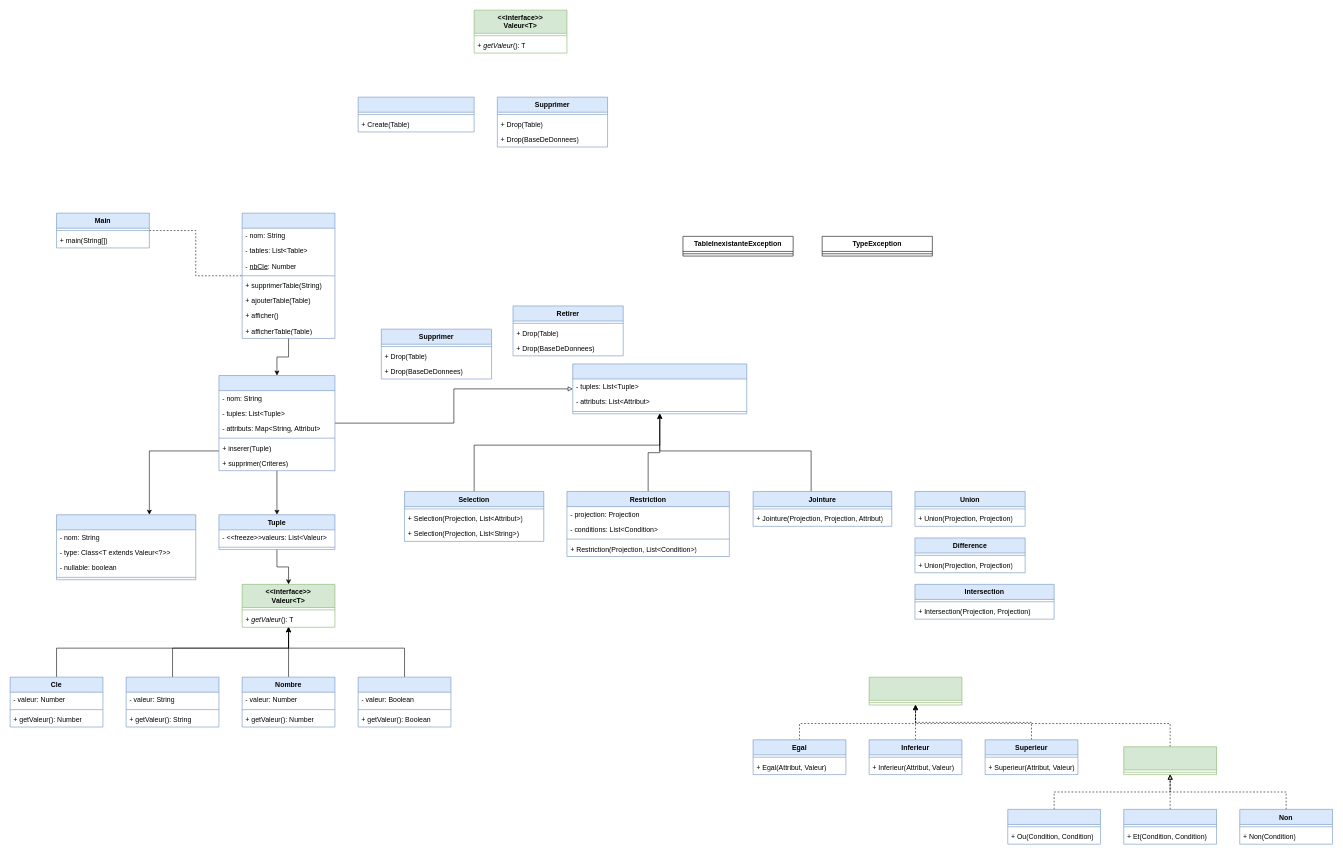
The diagram is 1343 pixels wide and 856 high, and some of its shapes have lost their labels. The box of each missing label's shape, as (x1, y1, x2, y2) in pixels:
<<interface>> Condition: (869, 677, 962, 705)
<<interface>> Operateur: (1123, 746, 1217, 775)
Attribut: (56, 514, 196, 580)
BaseDeDonnees: (242, 213, 335, 338)
Booleen: (358, 677, 451, 727)
Chaine: (126, 677, 219, 727)
Creer: (358, 97, 474, 132)
Et: (1123, 809, 1217, 844)
Ou: (1007, 809, 1101, 844)
Projection: (572, 363, 747, 414)
Table: (218, 375, 335, 471)
